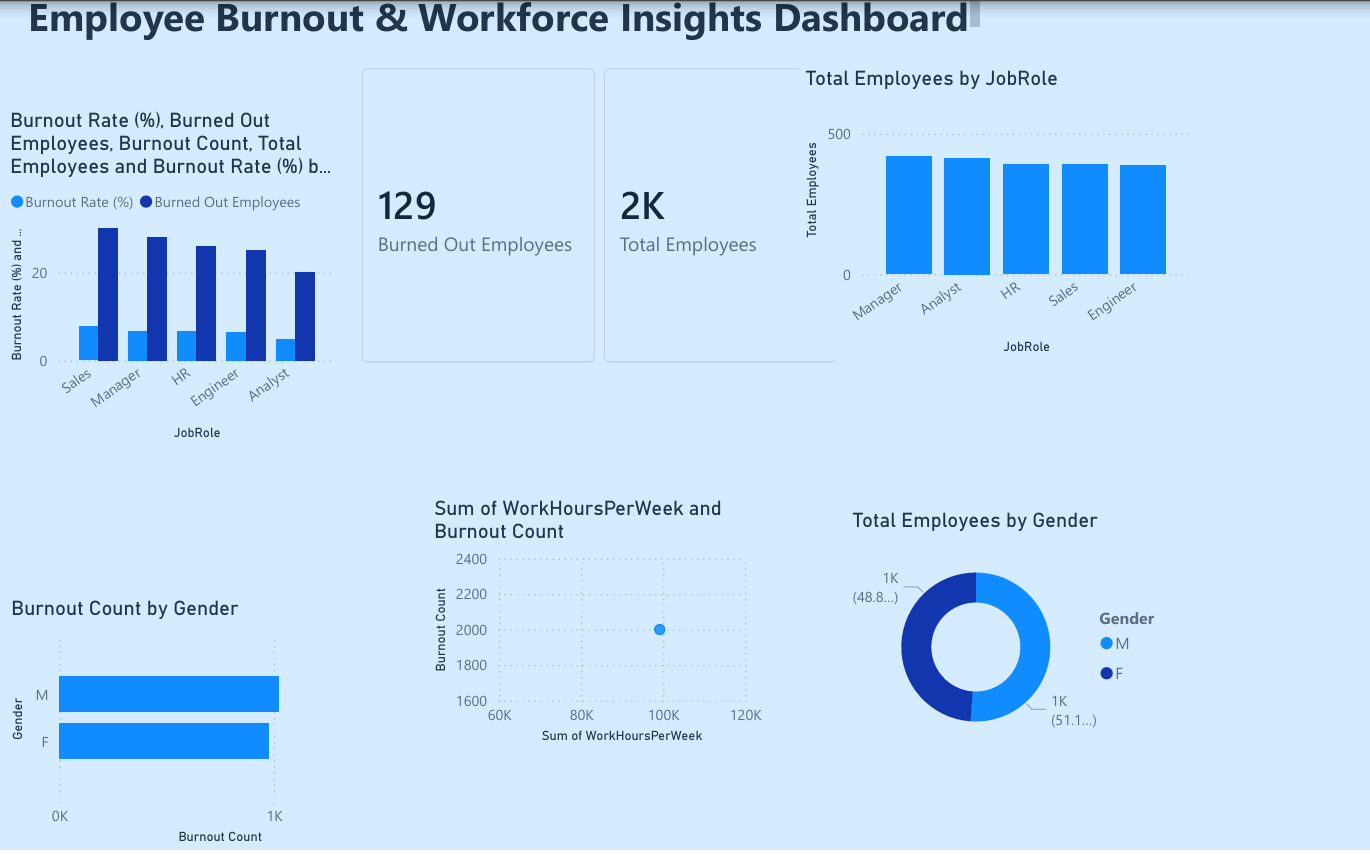

The page's visual inventory and layout, read from the dashboard file:
{"tool":"powerbi","page":{"name":"Page 1","canvas":[1280,720],"ordinal":0},"visuals":[{"type":"clusteredColumnChart","fields":{"Y":["synthetic_employee_burnout.Burnout Rate (%)","synthetic_employee_burnout.Burned Out Employees"],"Category":["synthetic_employee_burnout.JobRole"]},"box":[6.2,103.8,280,280],"z":0},{"type":"cardVisual","fields":{"Data":["synthetic_employee_burnout.Burned Out Employees","synthetic_employee_burnout.Total Employees"]},"box":[286.2,53.8,428.8,278.8],"z":1000},{"type":"clusteredColumnChart","fields":{"Category":["synthetic_employee_burnout.JobRole"],"Y":["synthetic_employee_burnout.Total Employees"]},"box":[666.2,68.8,330,243.8],"z":1001},{"type":"donutChart","fields":{"Category":["synthetic_employee_burnout.Gender"],"Y":["synthetic_employee_burnout.Total Employees"]},"box":[705,436.2,281.2,211.2],"z":1002},{"type":"clusteredBarChart","fields":{"Category":["synthetic_employee_burnout.Gender"],"Y":["synthetic_employee_burnout.Burnout Count"]},"box":[6.7,509.5,324,210.1],"z":1003},{"type":"scatterChart","fields":{"X":["Sum(synthetic_employee_burnout.WorkHoursPerWeek)"],"Y":["synthetic_employee_burnout.Burnout Count"]},"box":[357.5,426.2,282.5,210],"z":1004},{"type":"textbox","box":[20,0,801.2,53.8],"z":1005},{"type":"shape","box":[0,0,1280,720],"z":1006}]}

Visuals, with their boxes on the page's 1280x720 design canvas (x1, y1, x2, y2). These are canvas units, not pixel positions in the 1370x855 screenshot, which may show the page scaled, cropped or inside an application window:
clusteredColumnChart - synthetic_employee_burnout.Burnout Rate (%) x synthetic_employee_burnout.Burned Out Employees: box=[6, 104, 286, 384]
cardVisual - synthetic_employee_burnout.Burned Out Employees x synthetic_employee_burnout.Total Employees: box=[286, 54, 715, 333]
clusteredColumnChart - synthetic_employee_burnout.JobRole x synthetic_employee_burnout.Total Employees: box=[666, 69, 996, 313]
donutChart - synthetic_employee_burnout.Gender x synthetic_employee_burnout.Total Employees: box=[705, 436, 986, 647]
clusteredBarChart - synthetic_employee_burnout.Gender x synthetic_employee_burnout.Burnout Count: box=[7, 510, 331, 720]
scatterChart - Sum(synthetic_employee_burnout.WorkHoursPerWeek) x synthetic_employee_burnout.Burnout Count: box=[358, 426, 640, 636]
textbox: box=[20, 0, 821, 54]
shape: box=[0, 0, 1280, 720]
